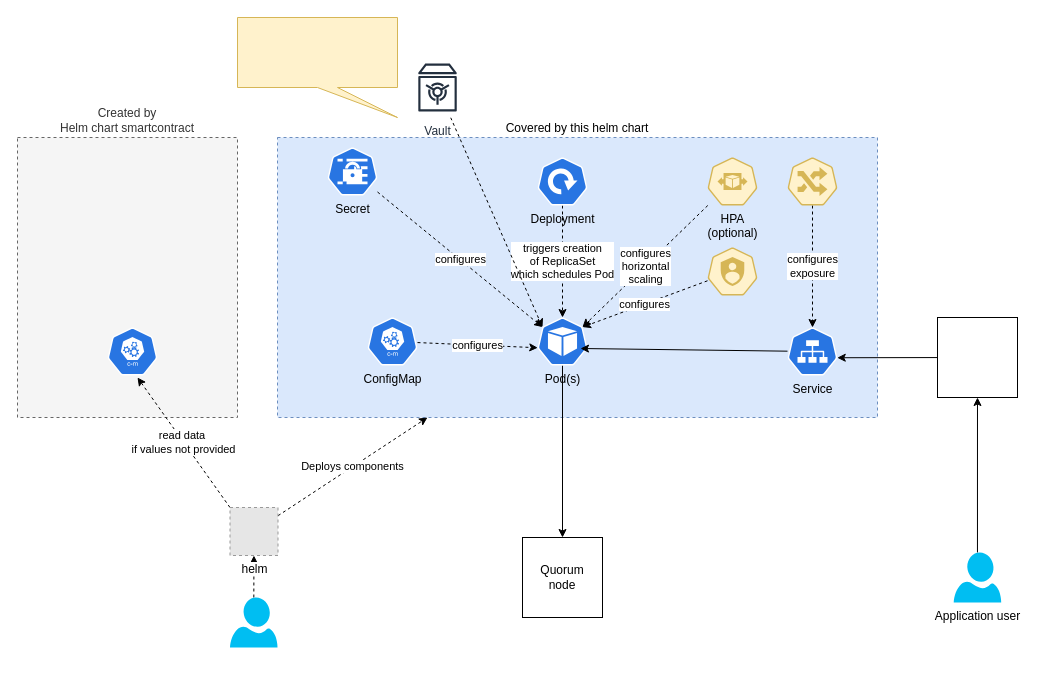
The diagram is 1037 pixels wide and 686 high, and some of its shapes have lost their labels. Grey dashed boxes stand in for pictures. Here are the shapes that lost their labels. From the top down, the centre of each, then its label:
At (x=317, y=67): "Either Kubernetes Secret or from Vault Service (e.g. AWS Secrets Manager)".
At (x=812, y=181): "Ingress (optional)".
At (x=732, y=271): "ServiceAccount (optional)".
At (x=132, y=351): "ConfigMap smartcontractinfo".
At (x=977, y=357): "(epi) application".
At (x=253, y=622): "User executing helm".
